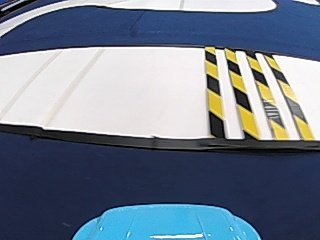bump: (203, 54, 303, 140)
